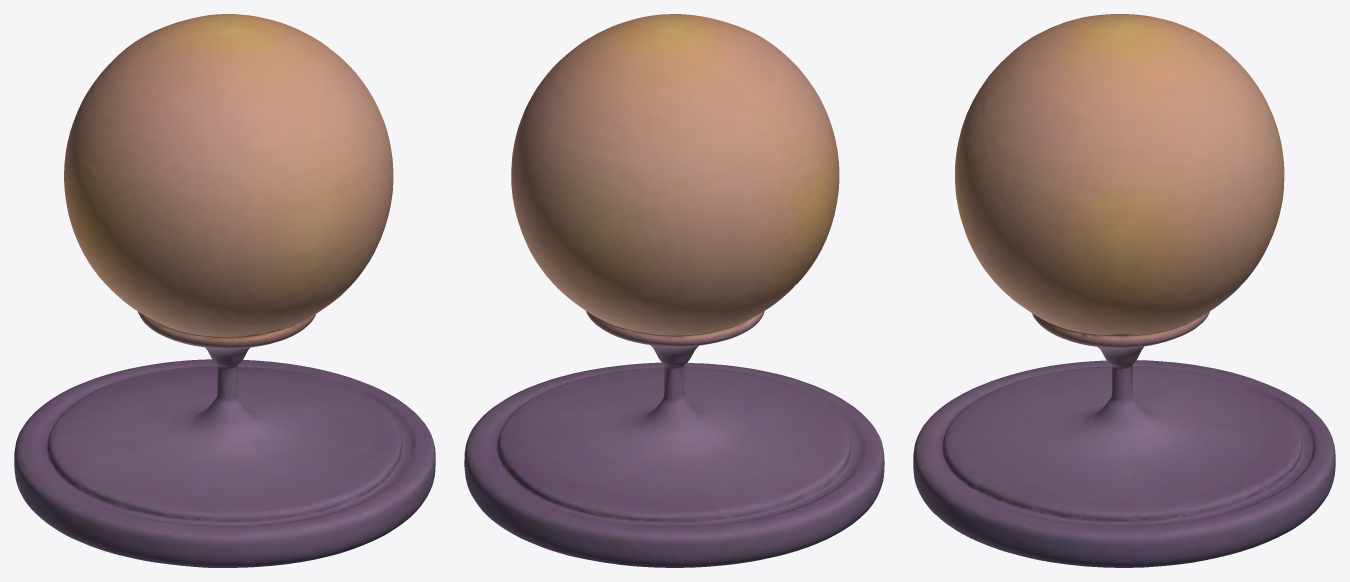
The model's file is fx_light_orb.glb.
The picture shows the model from 3 angles, left to right: view 1: azimuth 30°, elevation 25°; view 2: azimuth 150°, elevation 25°; view 3: azimuth 270°, elevation 25°; orthographic projection.
Parts seen in each view (by area): view 1: tripo_node_b5f8224c-ad32-4e45-a7e5-0bc364fca797; view 2: tripo_node_b5f8224c-ad32-4e45-a7e5-0bc364fca797; view 3: tripo_node_b5f8224c-ad32-4e45-a7e5-0bc364fca797.
Boxes of the visible parts, x1,y1,x2,y2 form: tripo_node_b5f8224c-ad32-4e45-a7e5-0bc364fca797: [14, 14, 435, 567]; tripo_node_b5f8224c-ad32-4e45-a7e5-0bc364fca797: [464, 14, 884, 567]; tripo_node_b5f8224c-ad32-4e45-a7e5-0bc364fca797: [913, 14, 1335, 567].
Size of the model in its own units: 0.7977 by 0.9489 by 0.7981.
Materials: 1 (1 with a texture image).
